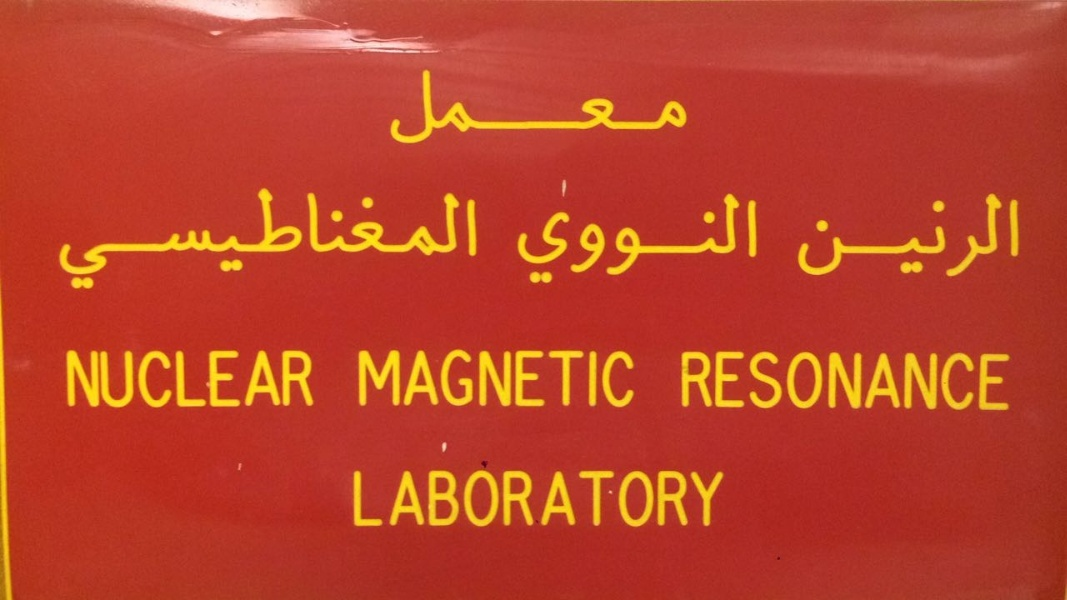text: (65, 179, 80, 294), (81, 179, 96, 294), (97, 179, 112, 294), (113, 179, 128, 294), (129, 179, 144, 294), (145, 179, 160, 294), (161, 179, 176, 294), (177, 179, 192, 294), (193, 179, 208, 294), (209, 179, 224, 294), (225, 179, 240, 294), (241, 179, 256, 294), (257, 179, 272, 294), (273, 179, 288, 294), (289, 179, 304, 294), (305, 179, 320, 294), (321, 179, 336, 294), (337, 179, 352, 294), (353, 179, 368, 294), (369, 179, 384, 294), (385, 179, 400, 294), (401, 179, 416, 294), (417, 179, 432, 294), (433, 179, 448, 294), (449, 179, 464, 294), (465, 179, 480, 294), (529, 190, 544, 286), (545, 190, 560, 286), (561, 190, 576, 286), (577, 190, 592, 286), (593, 190, 608, 286), (609, 190, 624, 286), (625, 190, 640, 286), (641, 190, 656, 286), (657, 190, 672, 286), (673, 190, 688, 286), (689, 190, 704, 286), (705, 190, 720, 286), (721, 190, 736, 286), (737, 190, 752, 286), (801, 190, 816, 279), (817, 190, 832, 279), (833, 190, 848, 279), (849, 190, 864, 279), (865, 190, 880, 279), (881, 190, 896, 279), (897, 190, 912, 279), (913, 190, 928, 279), (929, 190, 944, 279), (945, 190, 960, 279), (961, 190, 976, 279), (977, 190, 992, 279), (993, 190, 1008, 279), (401, 65, 416, 146), (417, 65, 432, 146), (433, 65, 448, 146), (449, 65, 464, 146), (465, 65, 480, 146), (481, 65, 496, 146), (497, 65, 512, 146), (513, 65, 528, 146), (529, 65, 544, 146), (545, 65, 560, 146), (561, 65, 576, 146), (577, 65, 592, 146), (593, 65, 608, 146), (609, 65, 624, 146), (625, 65, 640, 146), (641, 65, 656, 146), (657, 65, 672, 146), (1009, 190, 1022, 279), (673, 65, 687, 146), (517, 190, 528, 286), (993, 350, 1009, 411), (65, 346, 80, 410), (81, 346, 96, 410), (97, 346, 112, 410), (113, 346, 128, 410), (129, 346, 144, 410), (145, 346, 160, 410), (161, 346, 176, 410), (177, 346, 192, 410), (193, 346, 208, 410), (209, 346, 224, 410), (225, 346, 240, 410), (241, 346, 256, 410), (257, 346, 272, 410), (273, 346, 288, 410), (289, 346, 304, 410), (369, 348, 384, 410), (385, 348, 400, 410), (401, 348, 416, 410), (417, 348, 432, 410), (433, 348, 448, 410), (449, 348, 464, 410), (465, 348, 480, 410), (481, 348, 496, 410), (497, 348, 512, 410), (513, 348, 528, 410), (529, 348, 544, 410), (545, 348, 560, 410), (561, 348, 576, 410), (577, 348, 592, 410), (593, 348, 608, 410), (609, 348, 624, 410), (689, 350, 704, 411), (705, 350, 720, 411), (721, 350, 736, 411), (737, 350, 752, 411), (753, 350, 768, 411), (769, 350, 784, 411), (785, 350, 800, 411), (801, 350, 816, 411), (817, 350, 832, 411), (833, 350, 848, 411), (849, 350, 864, 411), (865, 350, 880, 411), (881, 350, 896, 411), (897, 350, 912, 411), (913, 350, 928, 411), (929, 350, 944, 411), (945, 350, 960, 411), (961, 350, 976, 411), (977, 350, 992, 411), (353, 467, 368, 528), (369, 467, 384, 528), (385, 467, 400, 528), (401, 467, 416, 528), (417, 467, 432, 528), (433, 467, 448, 528), (449, 467, 464, 528), (465, 467, 480, 528), (481, 467, 496, 528), (497, 467, 512, 528), (513, 467, 528, 528), (529, 467, 544, 528), (545, 467, 560, 528), (561, 467, 576, 528), (577, 467, 592, 528), (593, 467, 608, 528), (609, 467, 624, 528), (625, 467, 640, 528), (641, 467, 656, 528), (657, 467, 672, 528), (673, 467, 688, 528), (689, 467, 704, 528), (705, 467, 720, 528), (753, 190, 762, 286), (356, 348, 368, 410), (625, 348, 637, 410), (305, 346, 316, 410), (59, 179, 64, 294), (680, 350, 688, 411), (721, 467, 725, 528), (481, 179, 482, 294), (351, 467, 352, 528)
